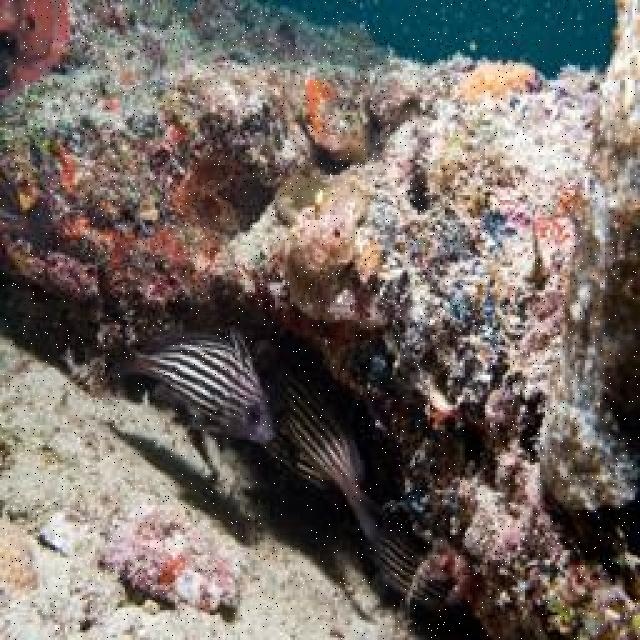fish: (108, 326, 276, 442)
